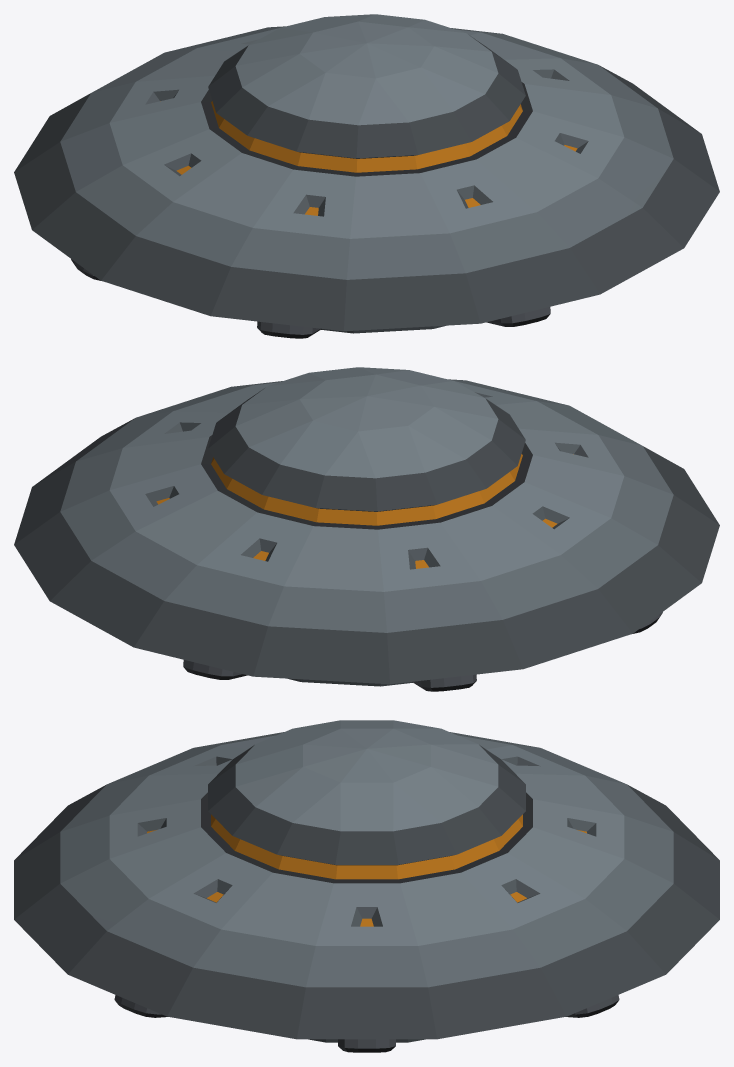
File: SM_Prop_UFO_01.fbx
3 renders of one model, top to bottom at view 1: azimuth 30°, elevation 25°; view 2: azimuth 150°, elevation 25°; view 3: azimuth 270°, elevation 25°, orthographic.
Parts seen in each view (by area): view 1: SM_Prop_UFO_01; view 2: SM_Prop_UFO_01; view 3: SM_Prop_UFO_01.
Part boxes in pixels (x1,y1,x2,y2): SM_Prop_UFO_01: (14, 14, 719, 338); SM_Prop_UFO_01: (14, 367, 719, 691); SM_Prop_UFO_01: (14, 720, 719, 1052).
Bounding box in the file's own units: 1956 × 706 × 1956.
